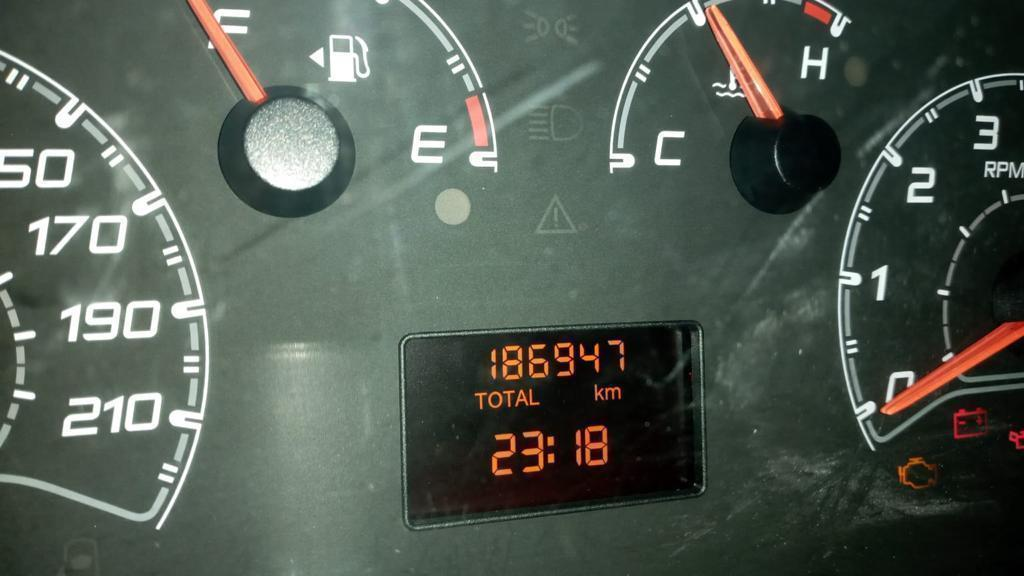1: (571, 426, 582, 468), (488, 345, 498, 381)
2: (488, 430, 517, 478)
3: (519, 428, 544, 474)
4: (577, 340, 602, 374)
6: (527, 342, 550, 379)
7: (605, 336, 627, 374)
8: (583, 423, 609, 467), (501, 343, 523, 381)
9: (552, 339, 576, 378)
X: (544, 433, 556, 465), (472, 391, 487, 410), (515, 387, 528, 408), (487, 390, 502, 408), (592, 381, 604, 402), (529, 387, 541, 407), (605, 385, 621, 400), (502, 389, 514, 408)
odometer: (396, 319, 708, 530)
